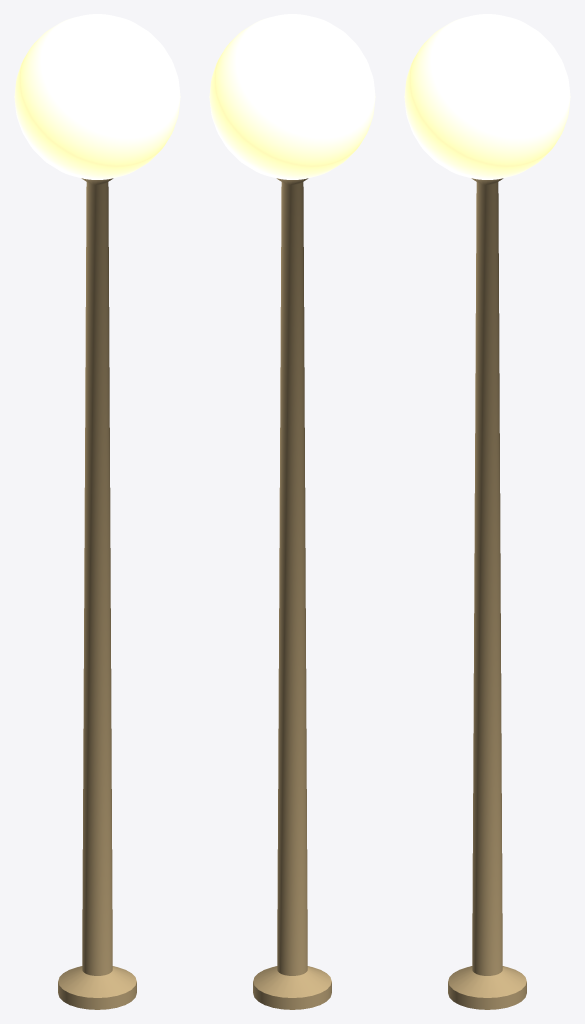
Rendered from common.glb.
3 views of the same model, side by side, from view 1: azimuth 30°, elevation 25°; view 2: azimuth 150°, elevation 25°; view 3: azimuth 270°, elevation 25° (orthographic).
Parts seen in each view (by area): view 1: CM_lmp_lamp01_LOD0; view 2: CM_lmp_lamp01_LOD0; view 3: CM_lmp_lamp01_LOD0.
Boxes of the visible parts, x1=… form: CM_lmp_lamp01_LOD0: x1=14, y1=14, x2=180, y2=1009; CM_lmp_lamp01_LOD0: x1=209, y1=14, x2=375, y2=1009; CM_lmp_lamp01_LOD0: x1=404, y1=14, x2=570, y2=1009.
Size of what is drawn, in the model's own units: 0.3799 by 2.45 by 0.3799.
